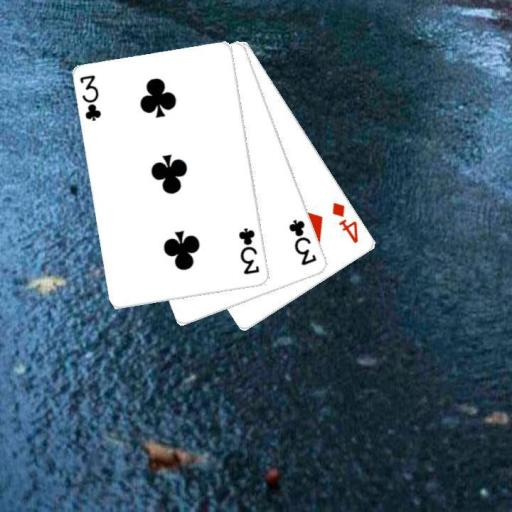3C: (286, 217, 318, 268), (235, 225, 262, 277), (77, 72, 103, 123)
4D: (329, 199, 361, 245)
